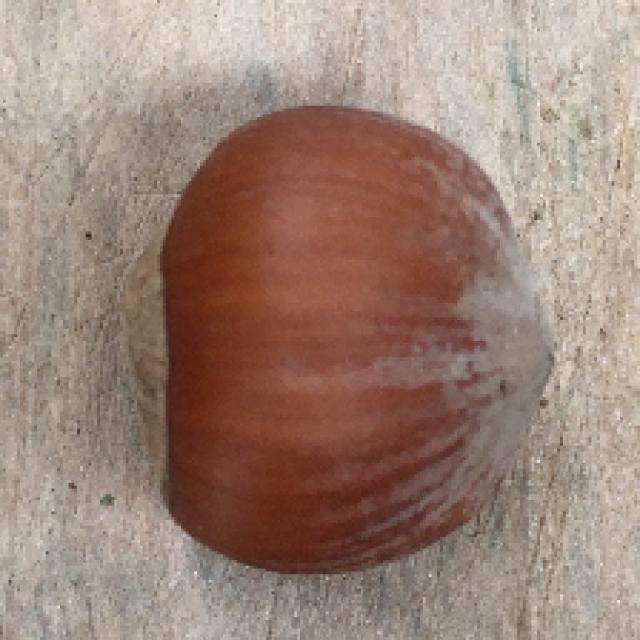hazelnut: (129, 90, 566, 581)
